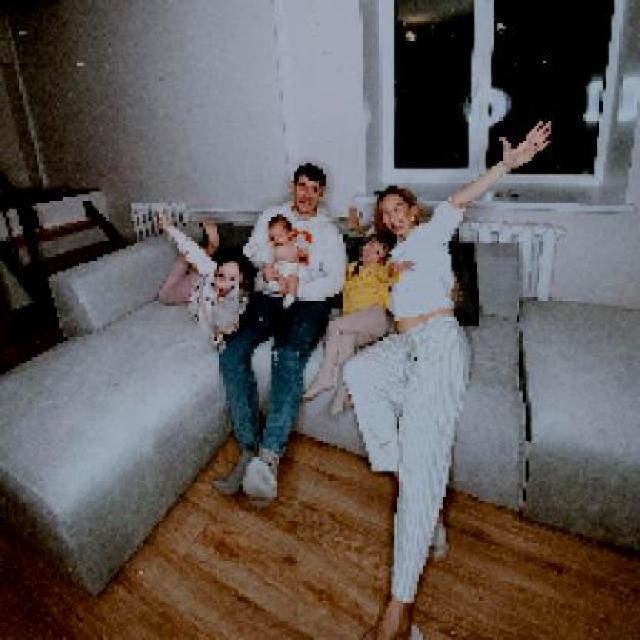child: (302, 236, 418, 413), (158, 205, 255, 348), (261, 212, 313, 308)
